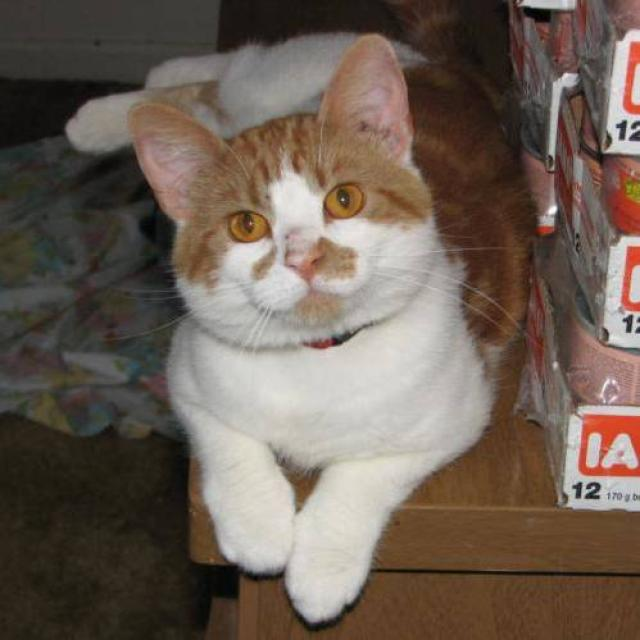cat: (62, 24, 545, 621)
